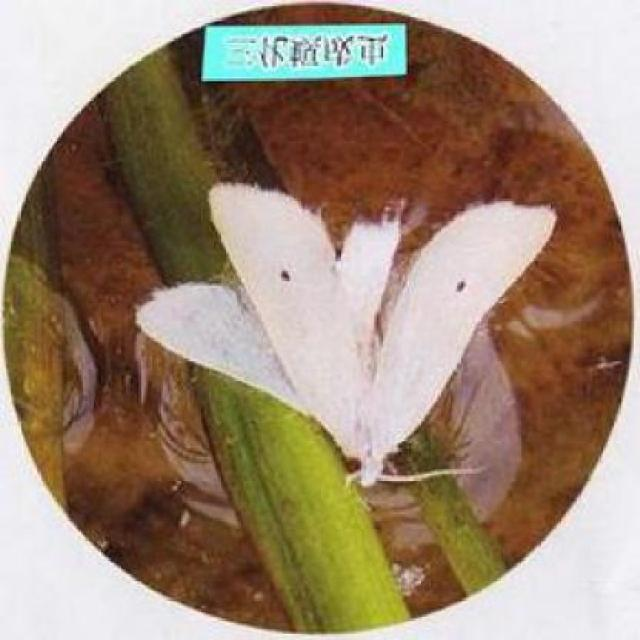stem-borer: (133, 183, 558, 491)
